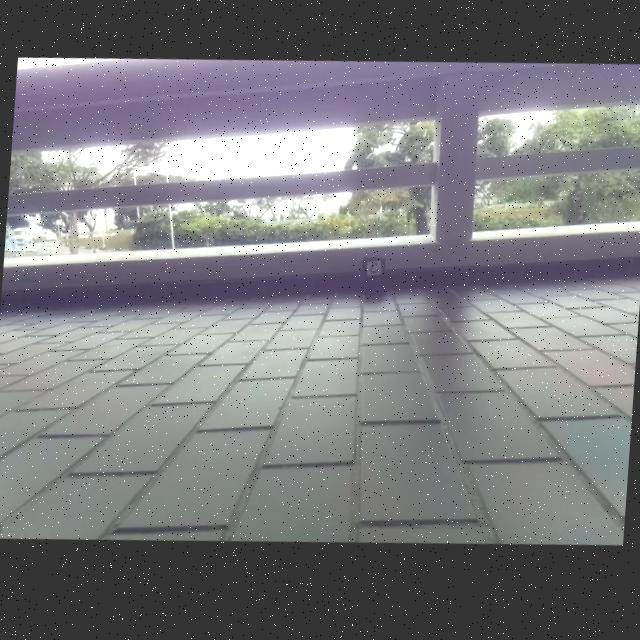C: (369, 266, 379, 278)
